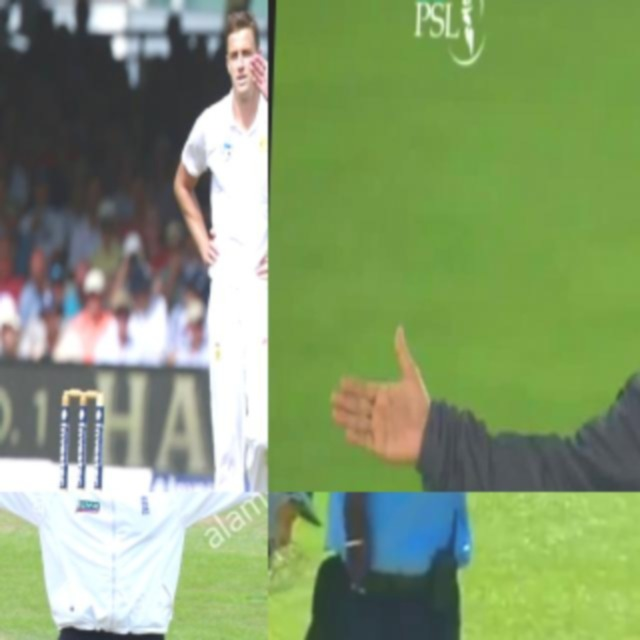No_Ball: (323, 37, 640, 492)
Wide: (268, 492, 616, 640), (0, 492, 268, 640)
